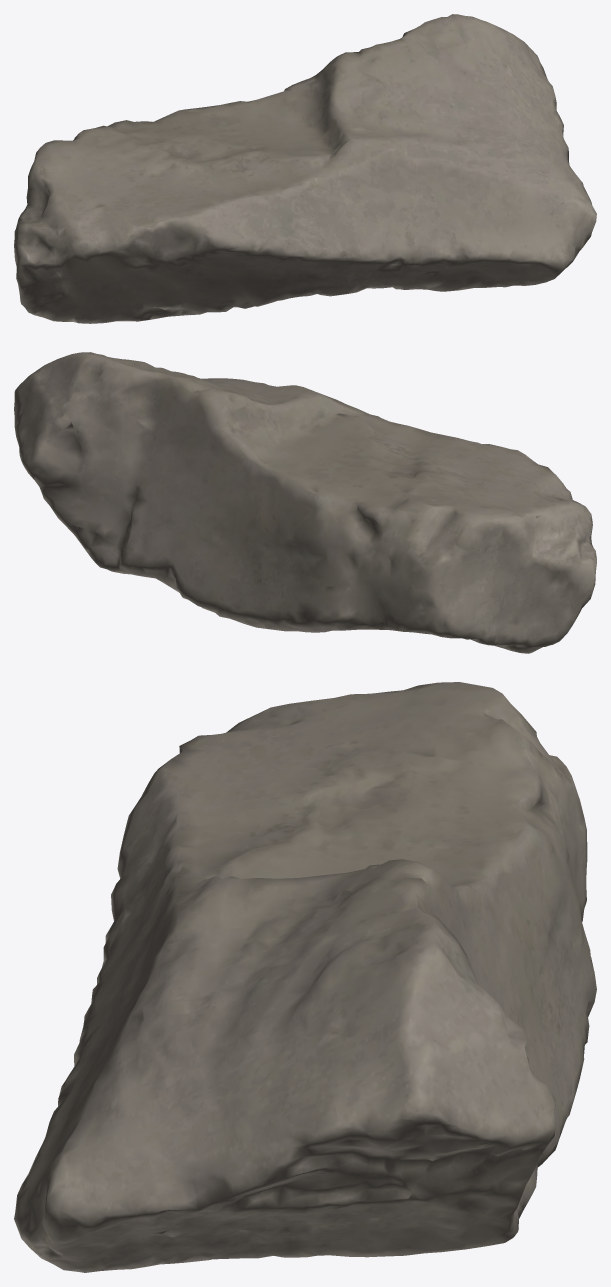
Rendered from rock-limestone-slab.glb.
The picture shows the model from 3 angles, top to bottom: view 1: azimuth 30°, elevation 25°; view 2: azimuth 150°, elevation 25°; view 3: azimuth 270°, elevation 25°; orthographic projection. The views are drawn at different scales.
Visible parts, largest first — view 1: moon_rock_01_LOD0; view 2: moon_rock_01_LOD0; view 3: moon_rock_01_LOD0.
Part boxes in pixels (x1,y1,x2,y2): moon_rock_01_LOD0: [14, 14, 596, 323]; moon_rock_01_LOD0: [14, 352, 596, 653]; moon_rock_01_LOD0: [14, 682, 596, 1272].
Bounding box in the file's own units: 2.12 × 0.7513 × 1.12.
1 material, 1 textured.
